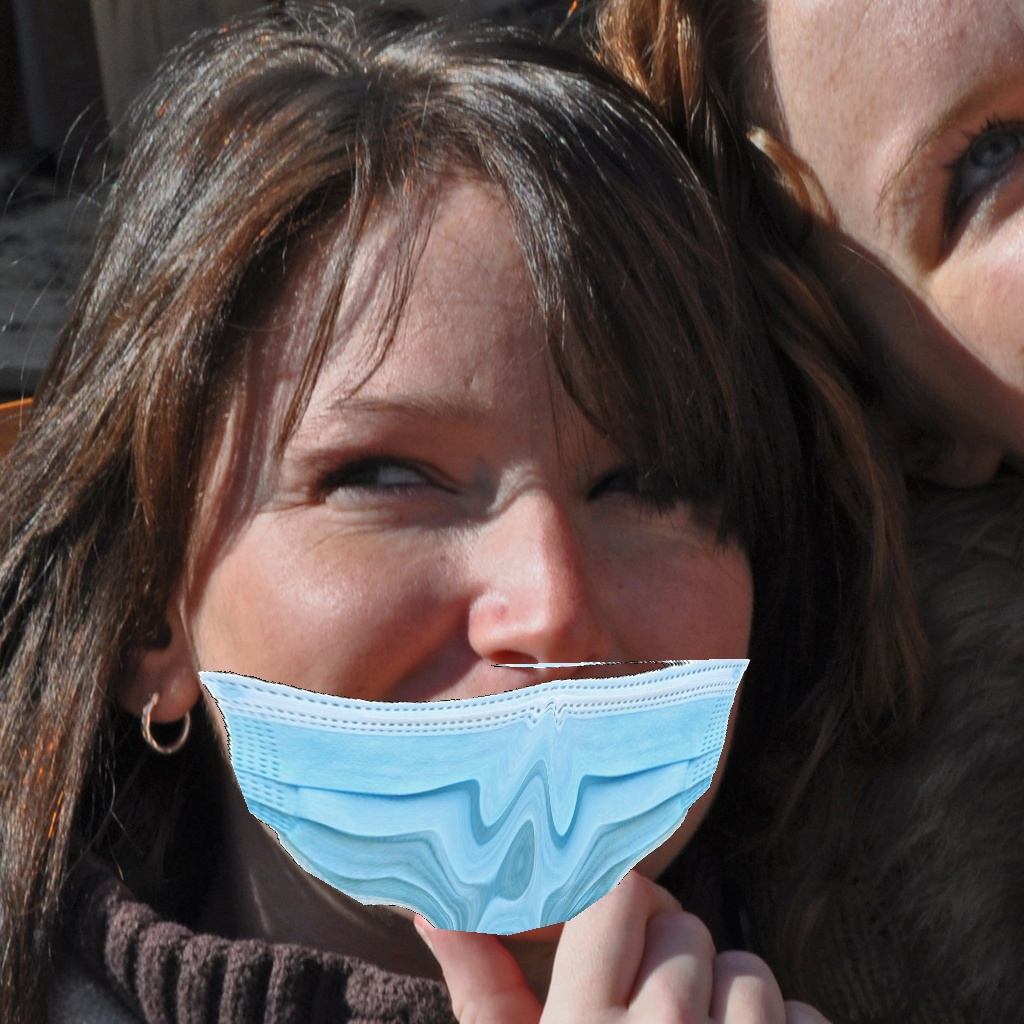mascarilla_mal_puesta: (157, 360, 814, 945)
